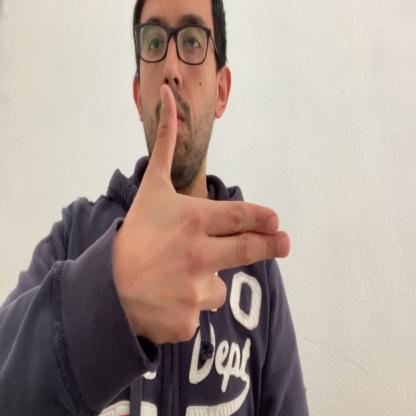H: (126, 81, 290, 345)
